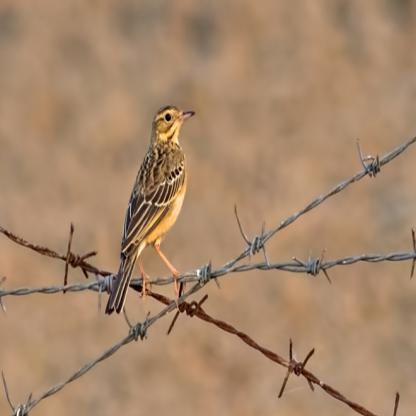Burung: (102, 104, 196, 312)
